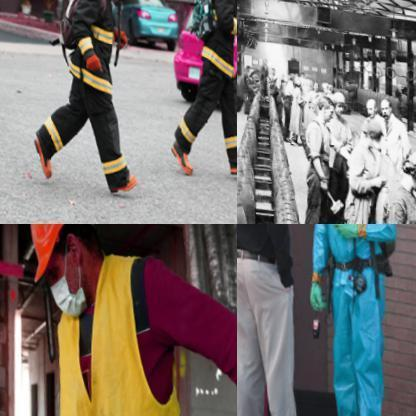vest: (39, 240, 208, 415), (56, 0, 124, 86), (300, 224, 403, 280), (190, 0, 236, 85)
